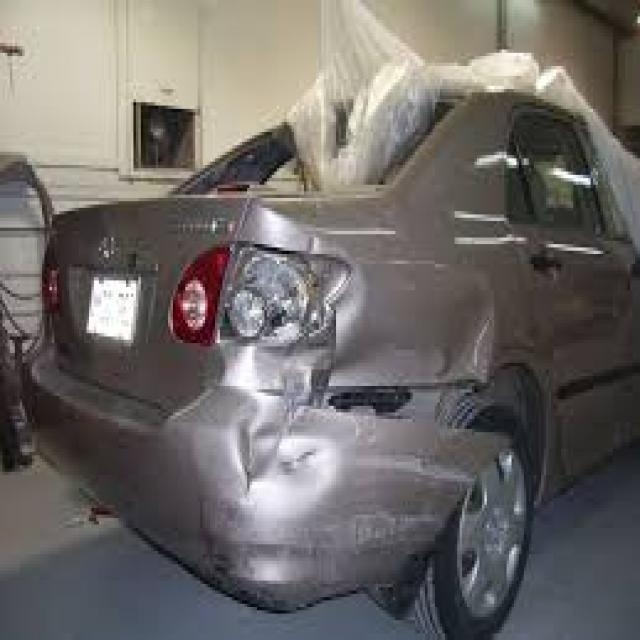moderate: (77, 215, 515, 563)
